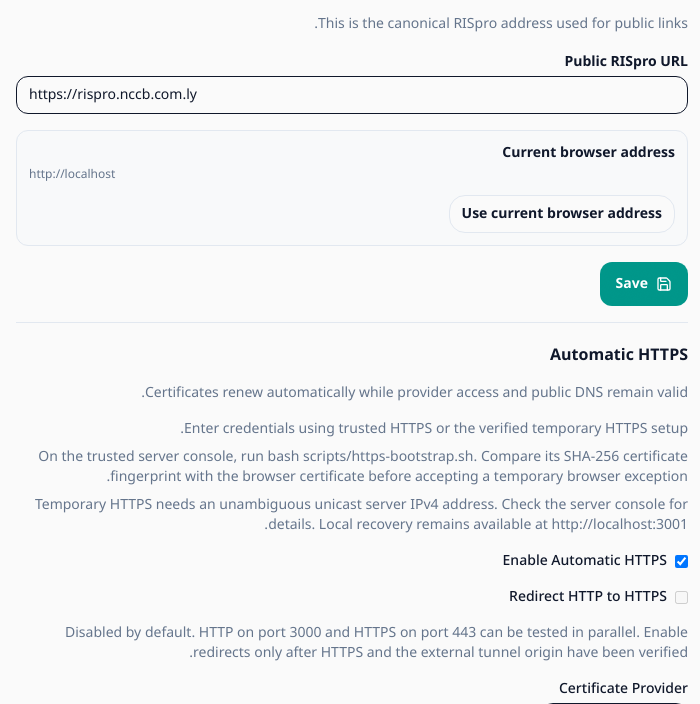
Test: loads, populates from the current browser without saving, and saves the normalized response
Expected: the field labelled "Public RISpro URL" holds "https://rispro.nccb.com.ly", [16,76,688,114]
Click the button "Use current browser address" at [562, 214], box [448,195,675,233]
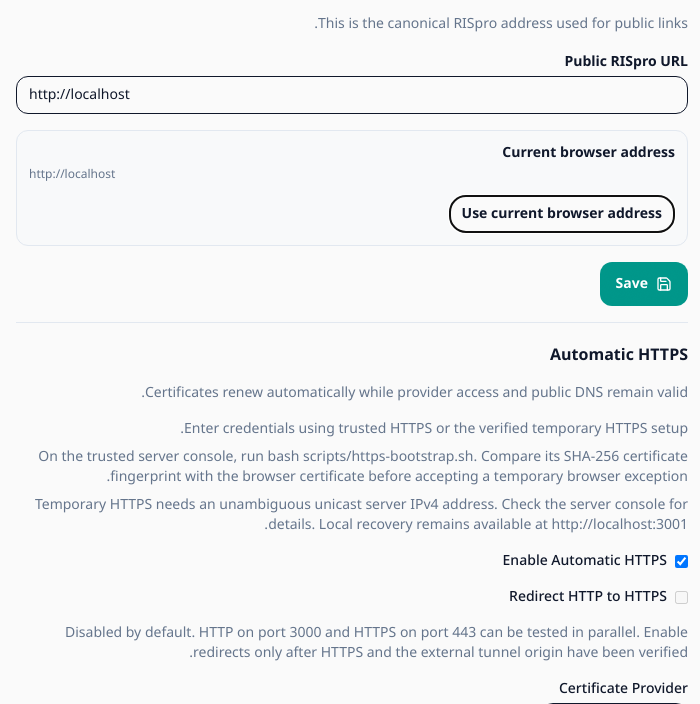
Click the button "Save" at [644, 284], box [600,262,688,306]
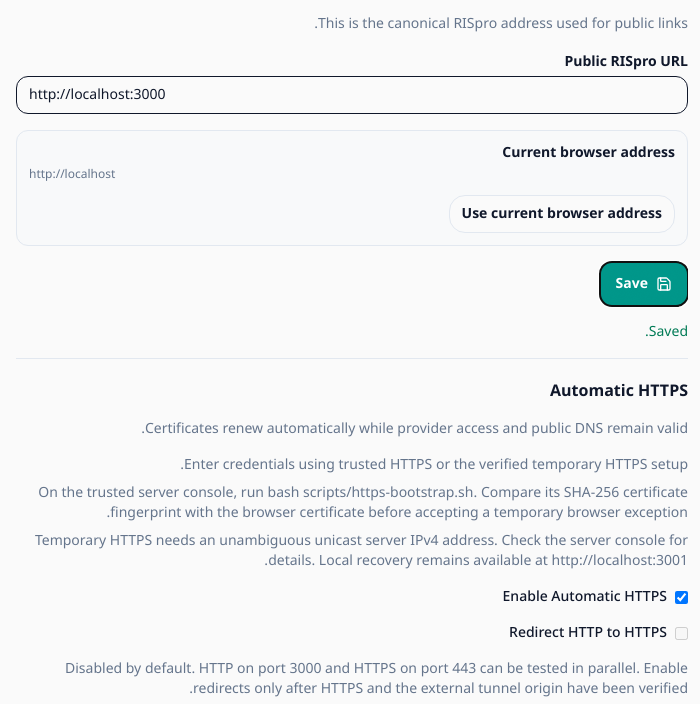
Expected: the field labelled "Public RISpro URL" holds "http://localhost:3000", [16,76,688,114]
